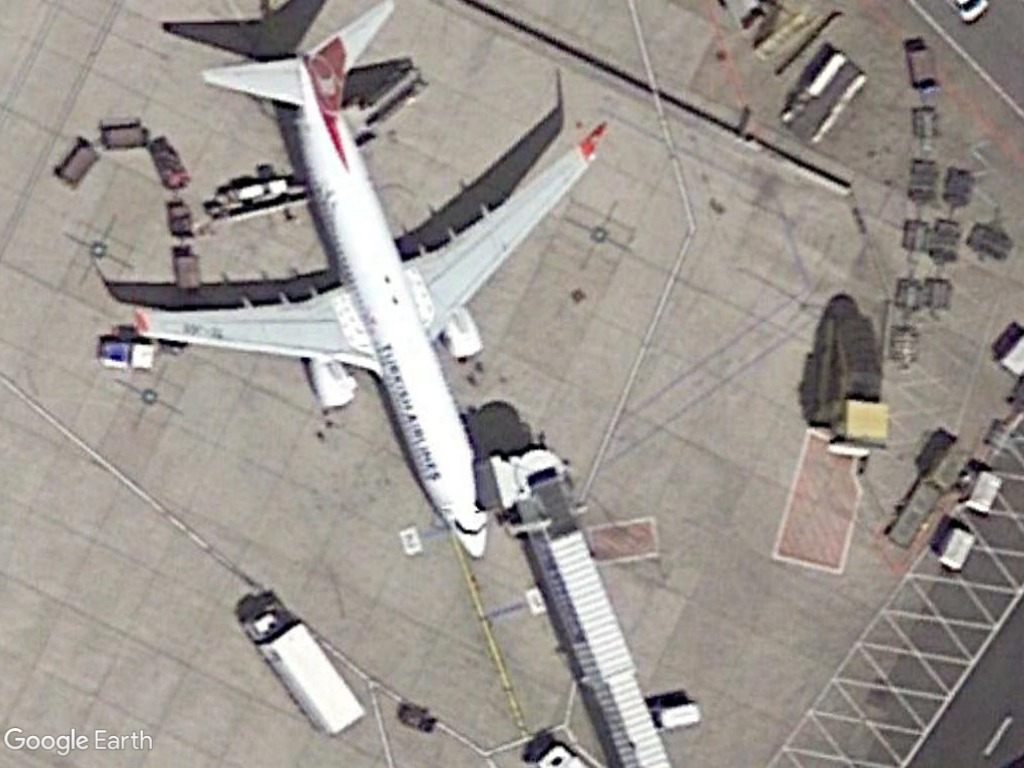airliner: (127, 0, 611, 561)
truck: (241, 598, 366, 741)
